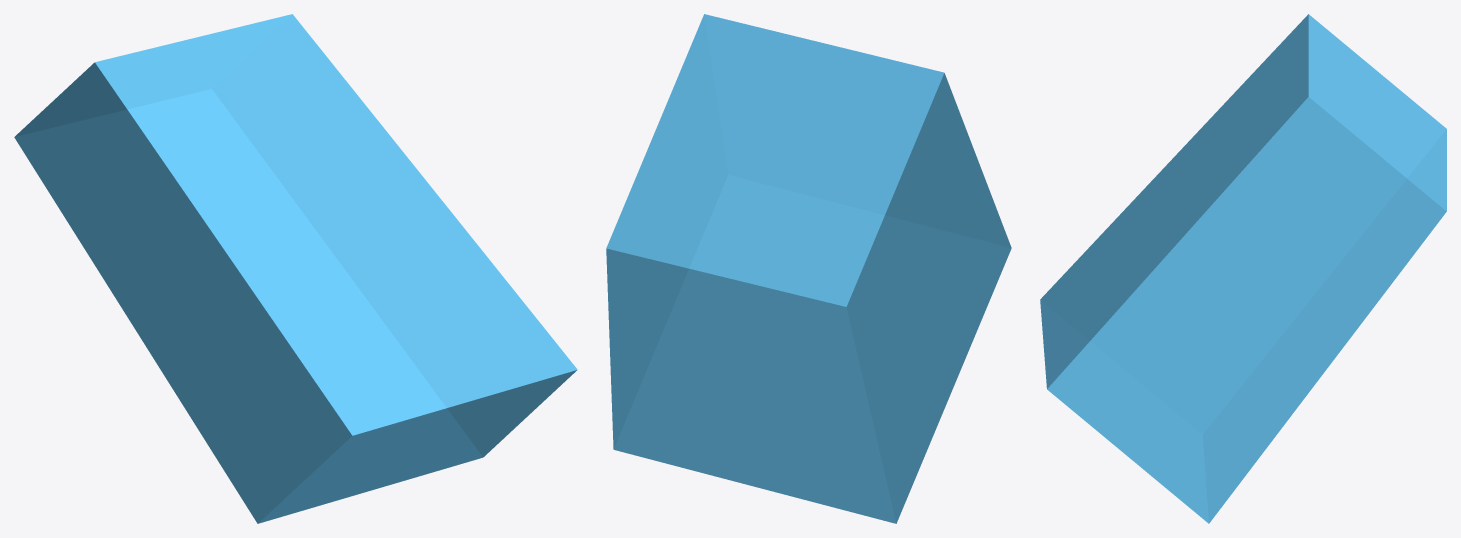
The model's file is Event_420107950_HBrechit_20.fbx.
3 renders of one model, left to right at view 1: azimuth 30°, elevation 25°; view 2: azimuth 150°, elevation 25°; view 3: azimuth 270°, elevation 25°, orthographic. The views are drawn at different scales.
Visible parts, largest first — view 1: Model; view 2: Model; view 3: Model.
Boxes of the visible parts, left/top/right/bottom form: Model: left=14, top=14, right=577, bottom=523; Model: left=606, top=14, right=1011, bottom=523; Model: left=1040, top=14, right=1446, bottom=523.
Bounding box in the file's own units: 0.7008 × 0.8942 × 0.871.
